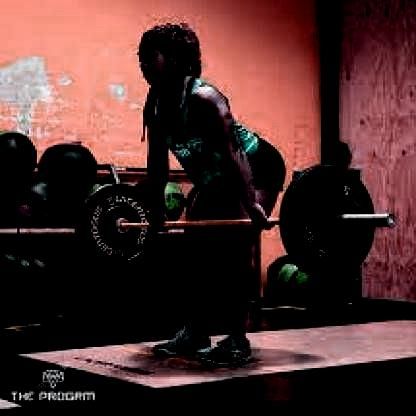Barbell: (380, 211, 405, 231)
